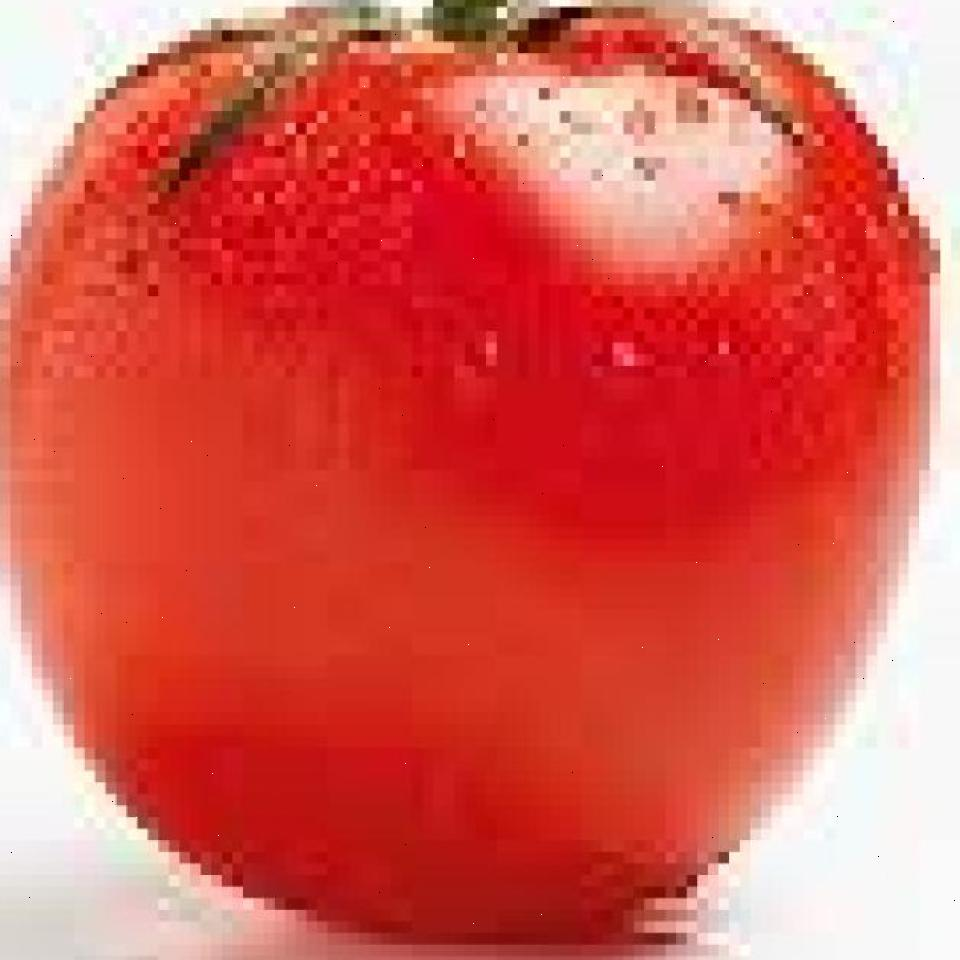Healthy: (1, 9, 938, 940)
